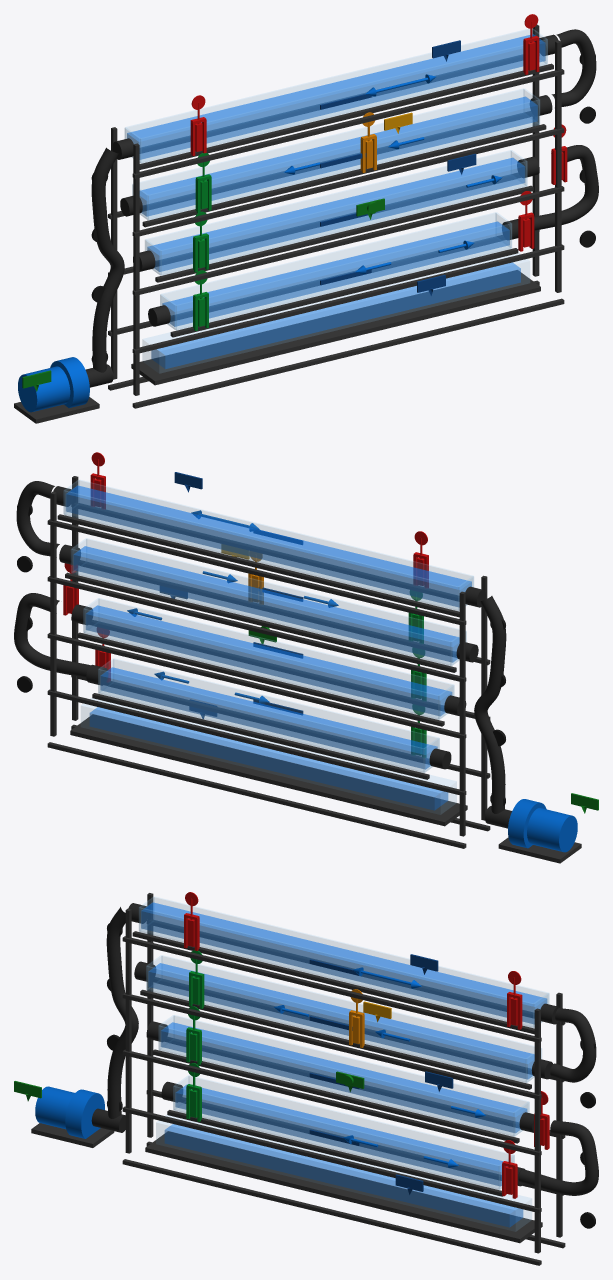
Rendered from intelligent-water-channel.glb.
3 renders of one model, top to bottom at view 1: azimuth 30°, elevation 25°; view 2: azimuth 150°, elevation 25°; view 3: azimuth 330°, elevation 25°, orthographic. The views are drawn at different scales.
Parts seen in each view (by area): view 1: Channel 1 L=8.0m depth=0.40m water body, Base steel skid, Bottom collection basin glass, Channel 2 L=3.5m + Channel 3 L=4.5m slope=42% water body, Channel 4 L=2.5m + Channel 5 L=5.0m depth=0.37m water body, Channel 1 L=8.0m depth=0.40m glass front wall, Channel 2 L=3.5m + Channel 3 L=4.5m slope=42% glass front wa, Channel 6 L=6.0m water body, Channel 4 L=2.5m + Channel 5 L=5.0m depth=0.37m glass front , Bottom collection basin water, Channel 6 L=6.0m glass front wall, left recirculation pipe DN200 (+30 smaller); view 2: Channel 1 L=8.0m depth=0.40m water body, Channel 2 L=3.5m + Channel 3 L=4.5m slope=42% water body, Base steel skid, Channel 4 L=2.5m + Channel 5 L=5.0m depth=0.37m water body, Bottom collection basin glass, Channel 1 L=8.0m depth=0.40m glass back wall, Channel 2 L=3.5m + Channel 3 L=4.5m slope=42% glass back wal, Channel 4 L=2.5m + Channel 5 L=5.0m depth=0.37m glass back w, Channel 6 L=6.0m water body, Channel 6 L=6.0m glass back wall, Bottom collection basin water, Channel 2 L=3.5m + Channel 3 L=4.5m slope=42% glass front wa (+30 smaller); view 3: Channel 1 L=8.0m depth=0.40m water body, Base steel skid, Bottom collection basin glass, Channel 2 L=3.5m + Channel 3 L=4.5m slope=42% water body, Channel 4 L=2.5m + Channel 5 L=5.0m depth=0.37m water body, Channel 1 L=8.0m depth=0.40m glass front wall, Channel 2 L=3.5m + Channel 3 L=4.5m slope=42% glass front wa, Channel 4 L=2.5m + Channel 5 L=5.0m depth=0.37m glass front , Channel 6 L=6.0m water body, Bottom collection basin water, Channel 6 L=6.0m glass front wall, Channel 6 L=6.0m glass back wall (+31 smaller).
Part boxes in pixels (x1,y1,x2,y2): Channel 1 L=8.0m depth=0.40m water body: (127, 34, 545, 159); Base steel skid: (131, 270, 540, 385); Bottom collection basin glass: (142, 253, 529, 373); Channel 2 L=3.5m + Channel 3 L=4.5m slope=42% water body: (140, 96, 537, 216); Channel 4 L=2.5m + Channel 5 L=5.0m depth=0.37m water body: (147, 157, 524, 271); Channel 1 L=8.0m depth=0.40m glass front wall: (140, 39, 547, 162); Channel 2 L=3.5m + Channel 3 L=4.5m slope=42% glass front wa: (148, 100, 539, 219); Channel 6 L=6.0m water body: (162, 221, 509, 326); Channel 4 L=2.5m + Channel 5 L=5.0m depth=0.37m glass front : (161, 161, 526, 274); Bottom collection basin water: (151, 262, 520, 368); Channel 6 L=6.0m glass front wall: (176, 224, 511, 329); left recirculation pipe DN200: (91, 147, 124, 372); Channel 1 L=8.0m depth=0.40m water body: (66, 485, 471, 607); Channel 2 L=3.5m + Channel 3 L=4.5m slope=42% water body: (73, 546, 459, 662); Base steel skid: (70, 714, 467, 826); Channel 4 L=2.5m + Channel 5 L=5.0m depth=0.37m water body: (86, 605, 451, 716); Bottom collection basin glass: (81, 698, 456, 814); Channel 1 L=8.0m depth=0.40m glass back wall: (64, 491, 458, 610); Channel 2 L=3.5m + Channel 3 L=4.5m slope=42% glass back wal: (71, 549, 450, 665); Channel 4 L=2.5m + Channel 5 L=5.0m depth=0.37m glass back w: (84, 609, 438, 719); Channel 6 L=6.0m water body: (100, 667, 437, 769); Channel 6 L=6.0m glass back wall: (98, 669, 423, 772); Bottom collection basin water: (90, 707, 447, 810); Channel 2 L=3.5m + Channel 3 L=4.5m slope=42% glass front wa: (86, 538, 459, 636); Channel 1 L=8.0m depth=0.40m water body: (141, 902, 546, 1023); Base steel skid: (145, 1131, 542, 1243); Bottom collection basin glass: (156, 1115, 531, 1231); Channel 2 L=3.5m + Channel 3 L=4.5m slope=42% water body: (148, 963, 534, 1079); Channel 4 L=2.5m + Channel 5 L=5.0m depth=0.37m water body: (161, 1022, 526, 1132); Channel 1 L=8.0m depth=0.40m glass front wall: (139, 908, 533, 1027); Channel 2 L=3.5m + Channel 3 L=4.5m slope=42% glass front wa: (146, 966, 526, 1082); Channel 4 L=2.5m + Channel 5 L=5.0m depth=0.37m glass front : (159, 1026, 513, 1136); Channel 6 L=6.0m water body: (175, 1084, 502, 1186); Bottom collection basin water: (165, 1124, 522, 1227); Channel 6 L=6.0m glass front wall: (173, 1086, 499, 1189); Channel 6 L=6.0m glass back wall: (189, 1075, 513, 1162).
Bounding box in the file's own units: 11.58 × 5.52 × 1.03.
